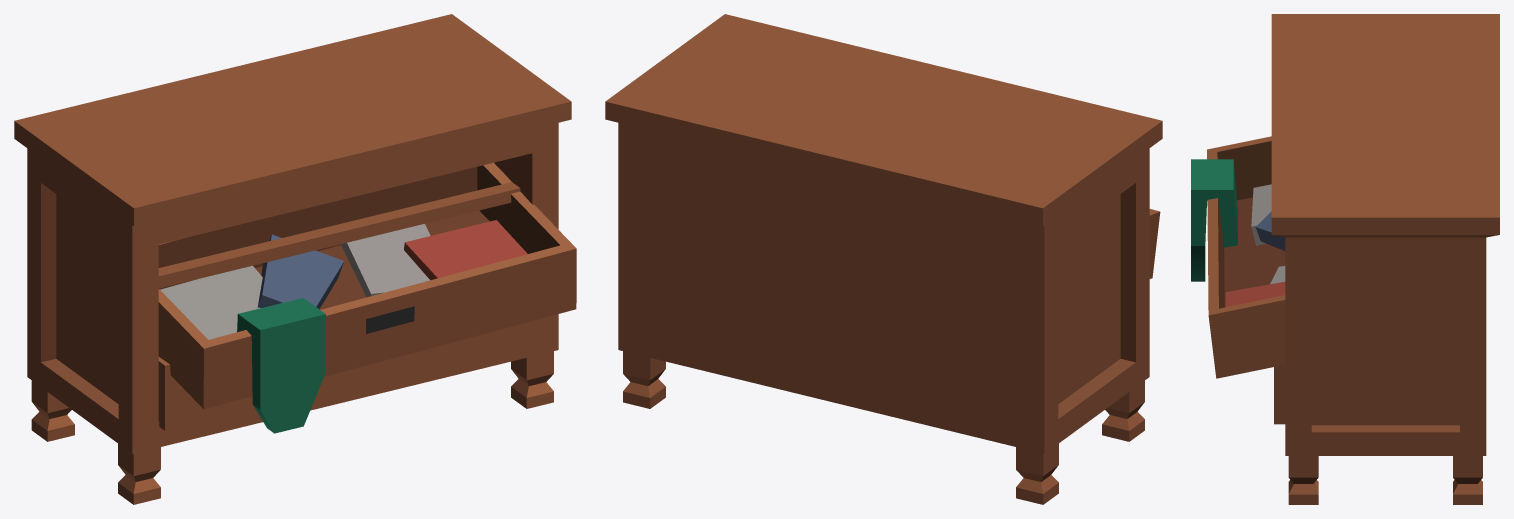
The model's file is AI_Prop_Dresser_01.fbx.
The picture shows the model from 3 angles, left to right: view 1: azimuth 30°, elevation 25°; view 2: azimuth 150°, elevation 25°; view 3: azimuth 270°, elevation 25°; orthographic projection. The views are drawn at different scales.
Visible parts, largest first — view 1: AI_Prop_Dresser_01; view 2: AI_Prop_Dresser_01; view 3: AI_Prop_Dresser_01.
Part boxes in pixels (box(x1,y1,x2,y2)): AI_Prop_Dresser_01: box(14, 14, 576, 504); AI_Prop_Dresser_01: box(605, 14, 1162, 504); AI_Prop_Dresser_01: box(1191, 14, 1499, 504).
Size of the model in its own units: 2.94 by 1.96 by 1.88.
